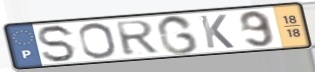9: (238, 9, 276, 49)
G: (155, 14, 201, 56)
K: (197, 13, 236, 50)
O: (77, 21, 119, 60)
R: (113, 19, 161, 57)
S: (36, 24, 79, 64)
